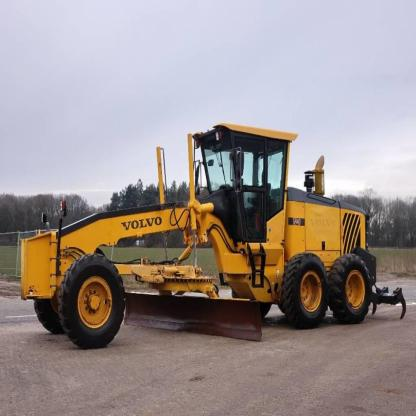bull_dozer/loader/grader: (12, 109, 397, 354)
